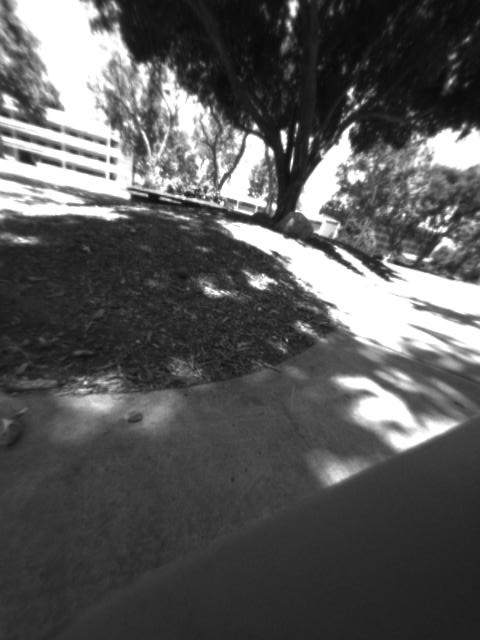dogtoy: (171, 258, 200, 285)
